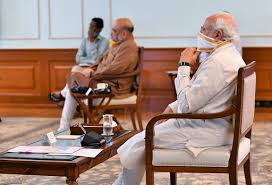Good: (51, 16, 251, 185), (51, 16, 147, 134)
